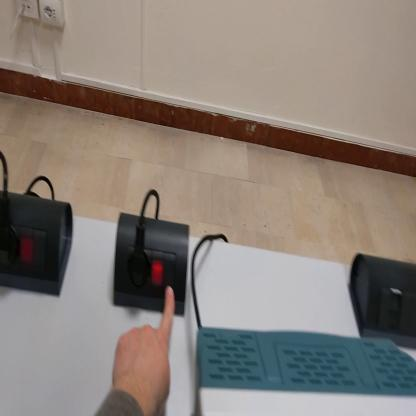hand: (114, 286, 176, 407)
oscilloscope: (198, 330, 416, 415)
socket: (111, 210, 190, 314), (2, 189, 75, 298)
